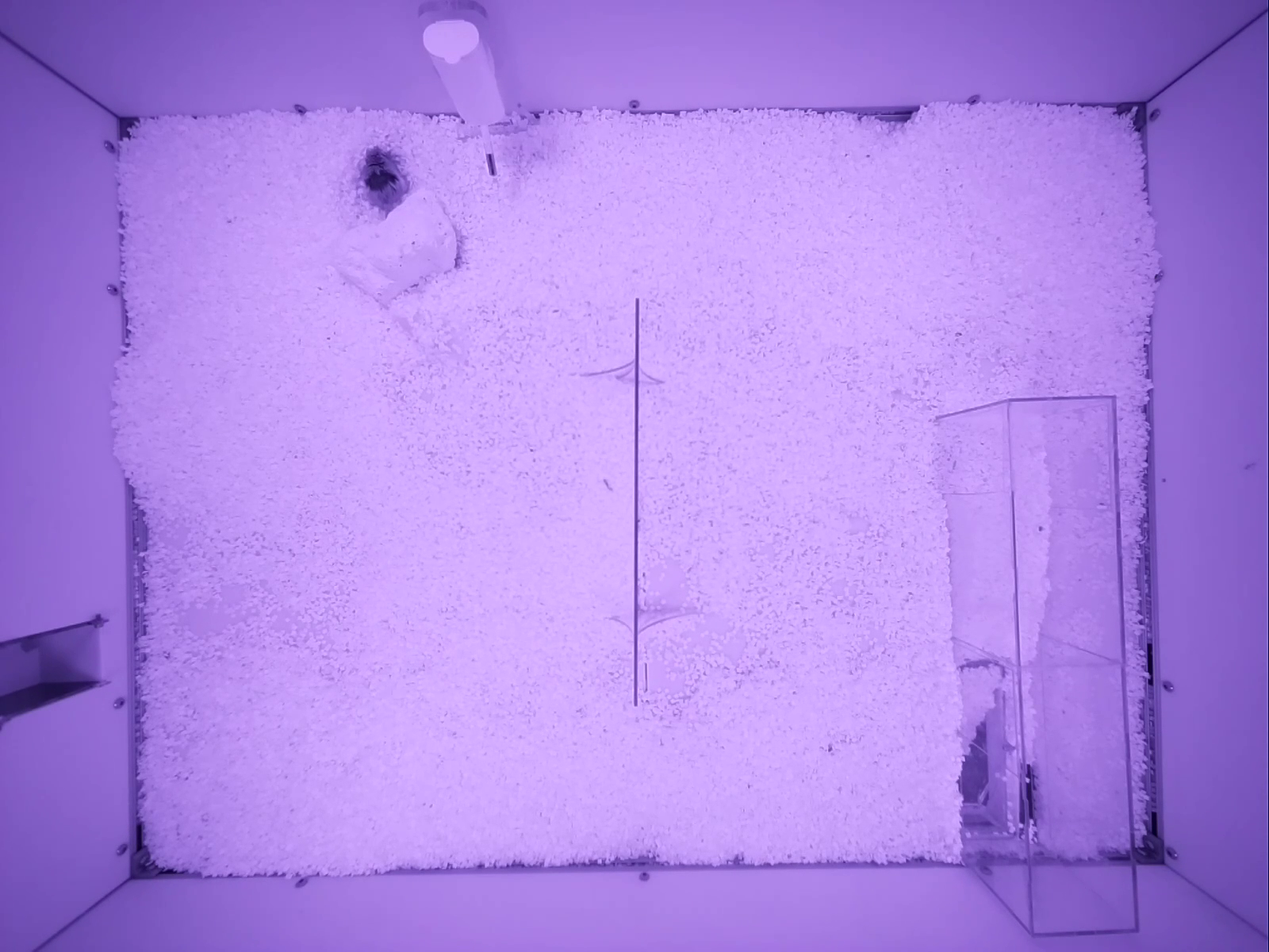adult_back: (359, 147, 409, 216)
